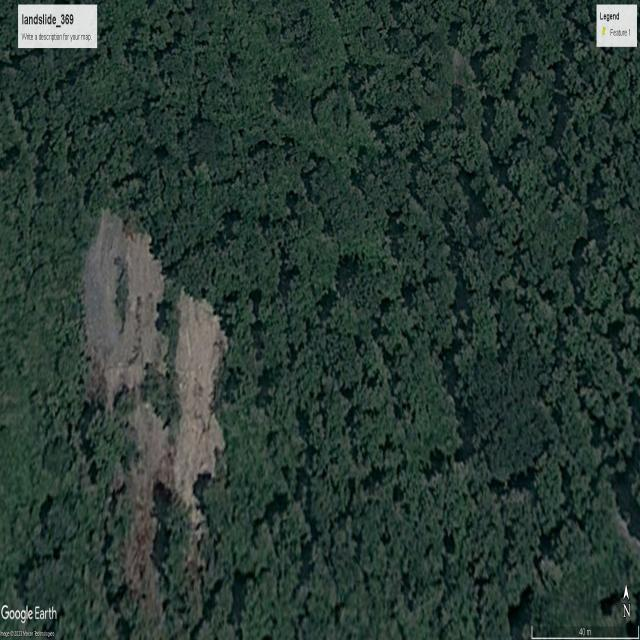Landslide: (82, 204, 225, 548)
